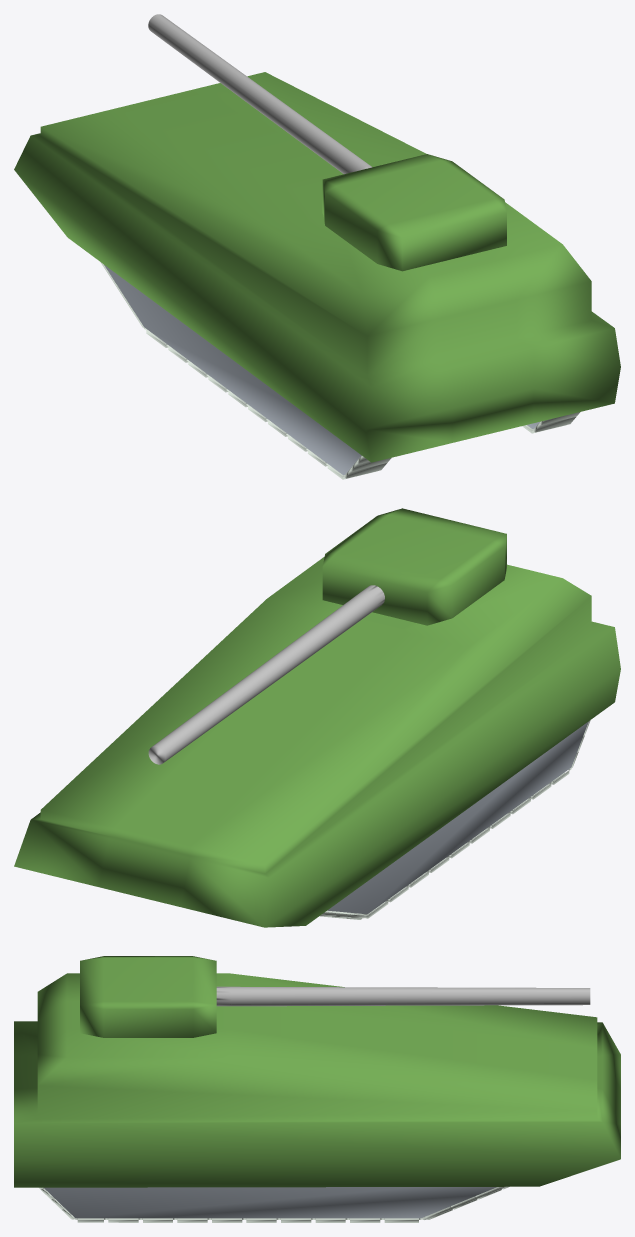
File: tank2.fbx
3 views of the same model, one above another, from view 1: azimuth 30°, elevation 25°; view 2: azimuth 150°, elevation 25°; view 3: azimuth 270°, elevation 25° (orthographic). The views are drawn at different scales.
Visible parts, largest first — view 1: 3DSMesh_2; view 2: 3DSMesh_2; view 3: 3DSMesh_2.
Boxes of the visible parts, bbox=[...] form: 3DSMesh_2: bbox=[14, 14, 620, 479]; 3DSMesh_2: bbox=[14, 508, 620, 927]; 3DSMesh_2: bbox=[14, 956, 620, 1222].
Size of the model in its own units: 2.1 by 1.8 by 5.04.
